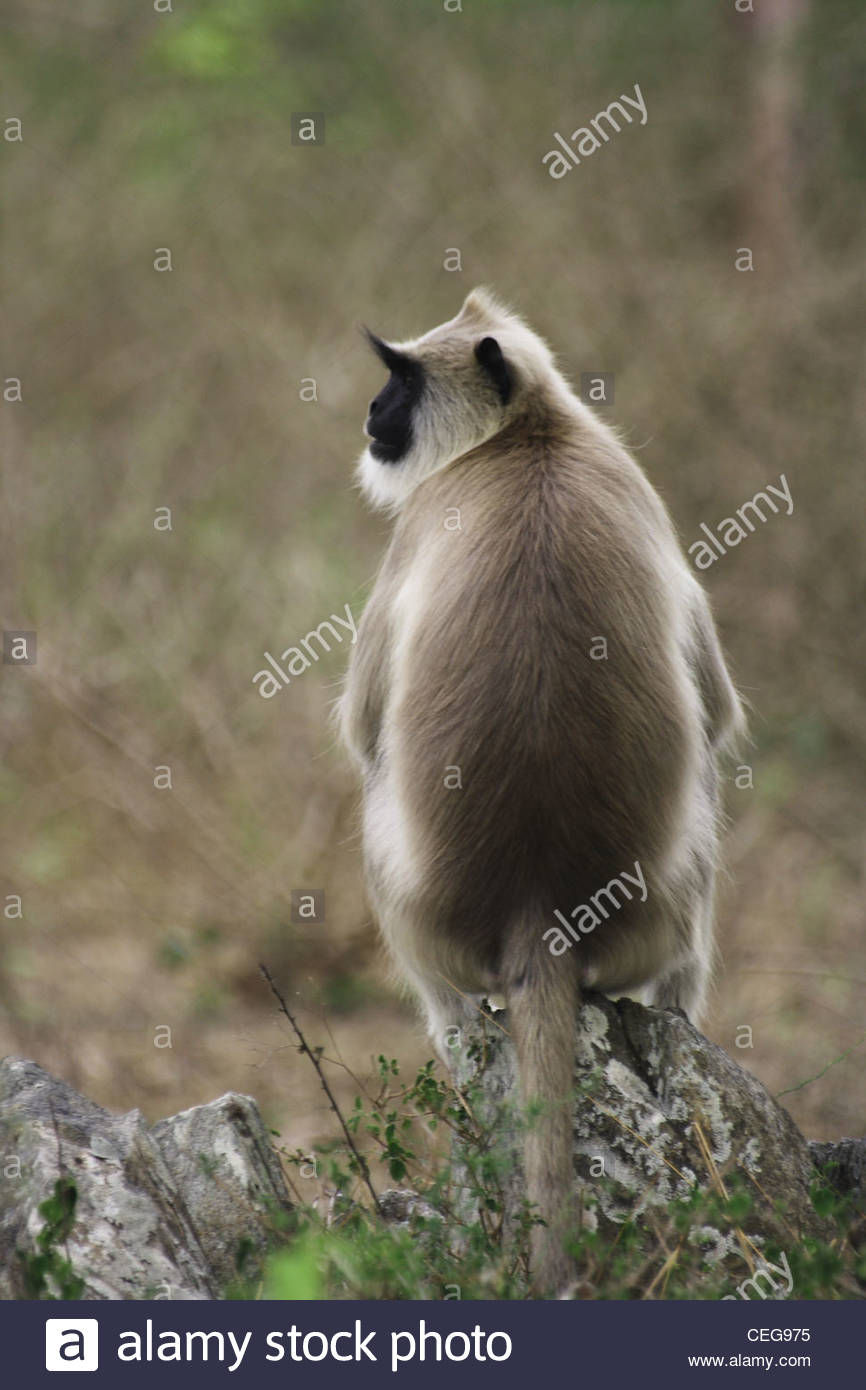langur: (338, 304, 740, 1012)
